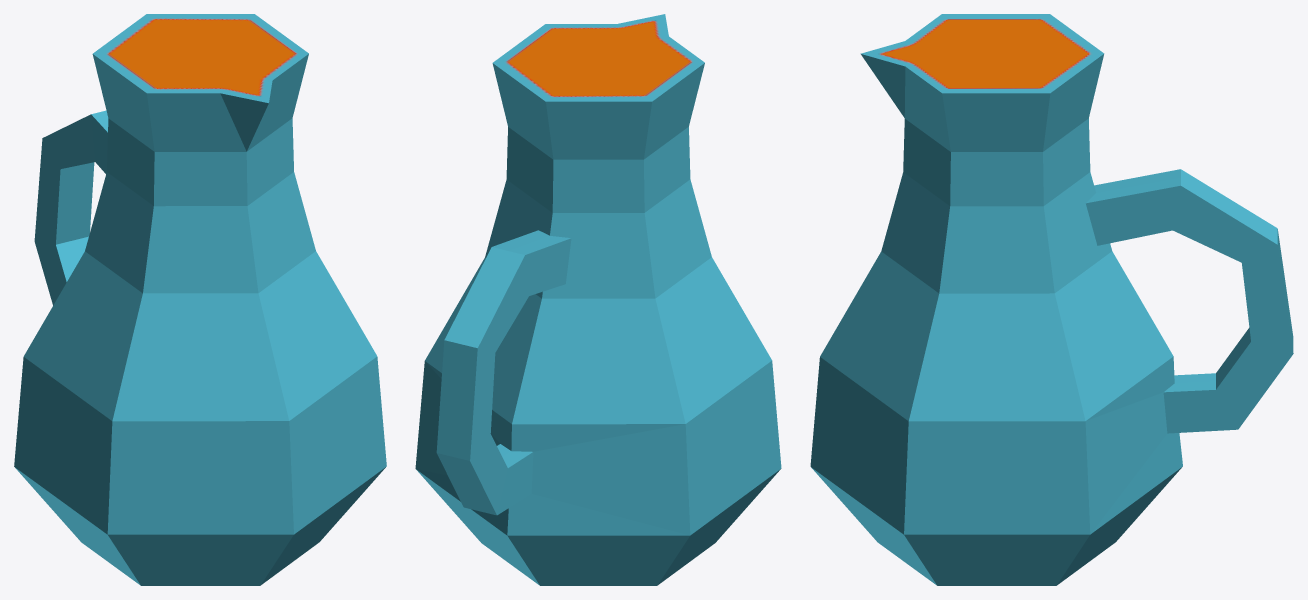
Rendered from pitcher2_PLY.fbx.
The picture shows the model from 3 angles, left to right: view 1: azimuth 30°, elevation 25°; view 2: azimuth 150°, elevation 25°; view 3: azimuth 270°, elevation 25°; orthographic projection.
Parts seen in each view (by area): view 1: pitcher2_PLY; view 2: pitcher2_PLY; view 3: pitcher2_PLY.
Part boxes in pixels (x1=…): pitcher2_PLY: x1=14, y1=14, x2=386, y2=585; pitcher2_PLY: x1=415, y1=14, x2=781, y2=585; pitcher2_PLY: x1=810, y1=14, x2=1293, y2=585.
Size of the model in its own units: 0.5988 by 0.9993 by 0.8952.
